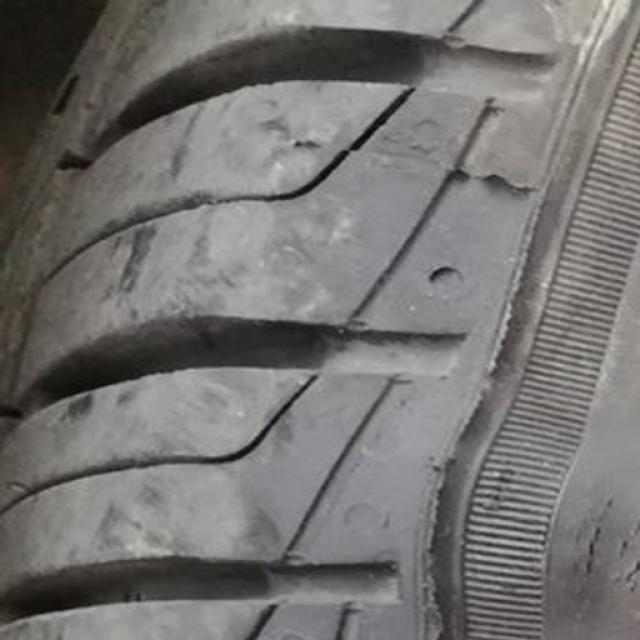Bulge: (398, 398, 614, 602)
